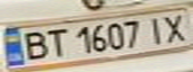0: (106, 20, 127, 51)
1: (72, 22, 93, 54)
6: (90, 21, 109, 53)
7: (121, 17, 145, 48)
B: (15, 28, 51, 61)
I: (142, 15, 172, 45)
T: (42, 26, 69, 57)
X: (157, 11, 193, 43)
